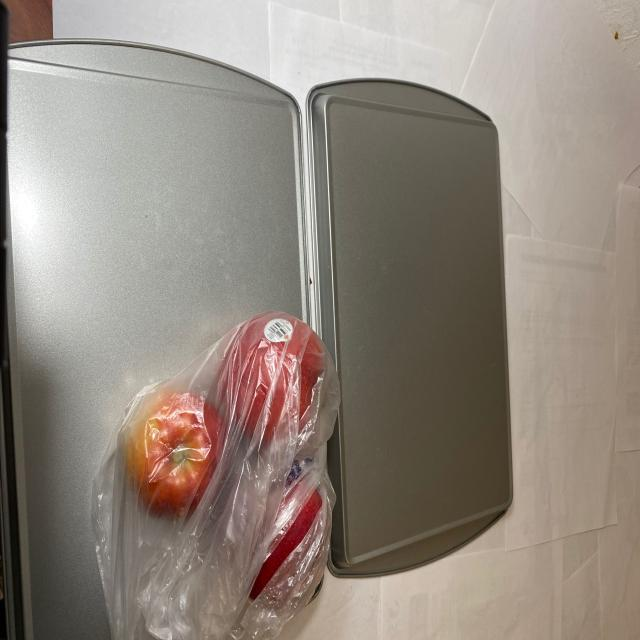apple: (112, 302, 332, 603)
